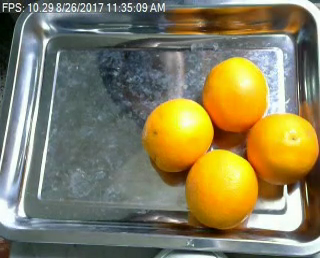Orange: (185, 150, 259, 228), (246, 112, 320, 185), (143, 97, 214, 172), (203, 56, 271, 133)
